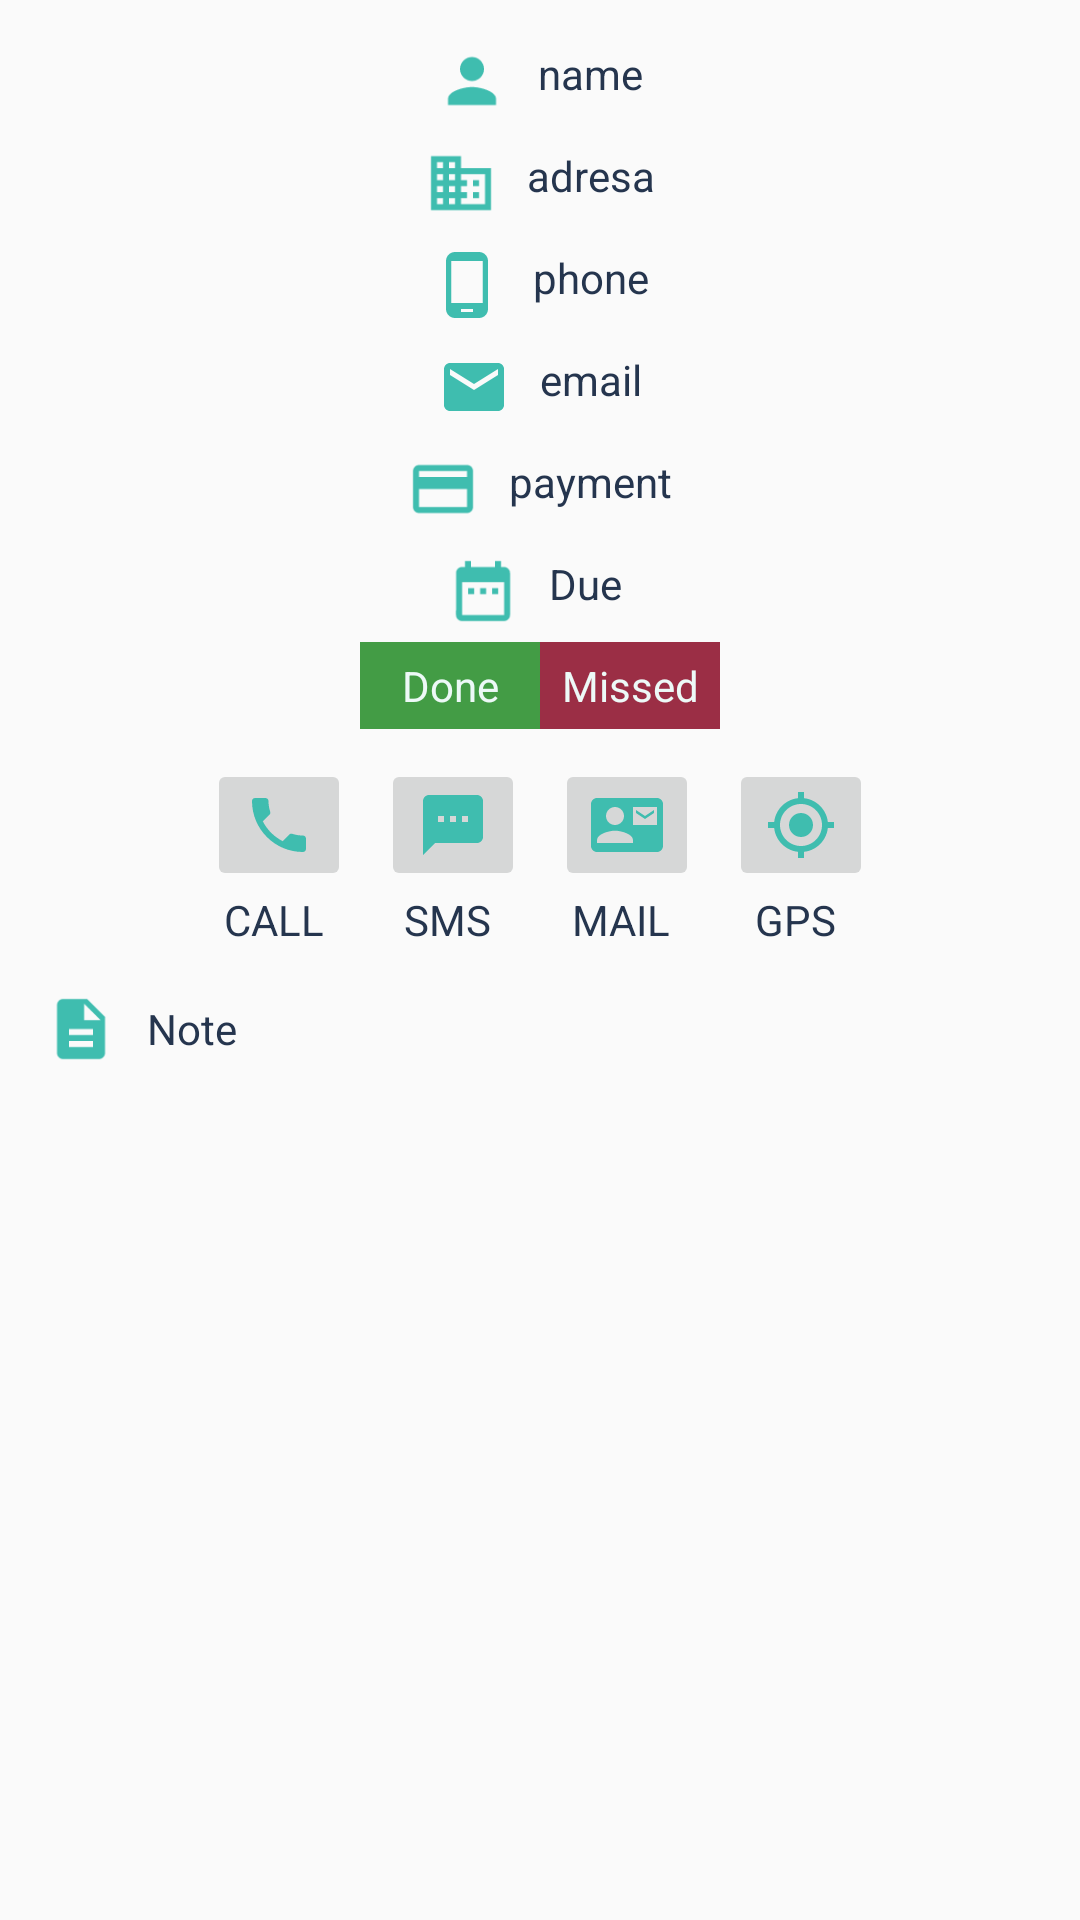

Icon click points for this 1080px x 1920px phone screenshot, format (x,y):
clients add activity address: (461,183)
clients add activity calendar: (483,591)
clients add activity client: (472,81)
clients add activity description: (81,1029)
